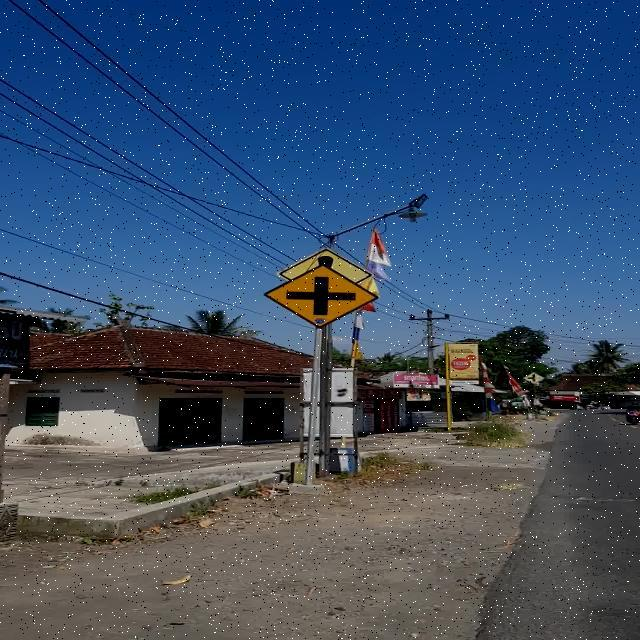Persimpangan 4: (264, 264, 380, 329)
